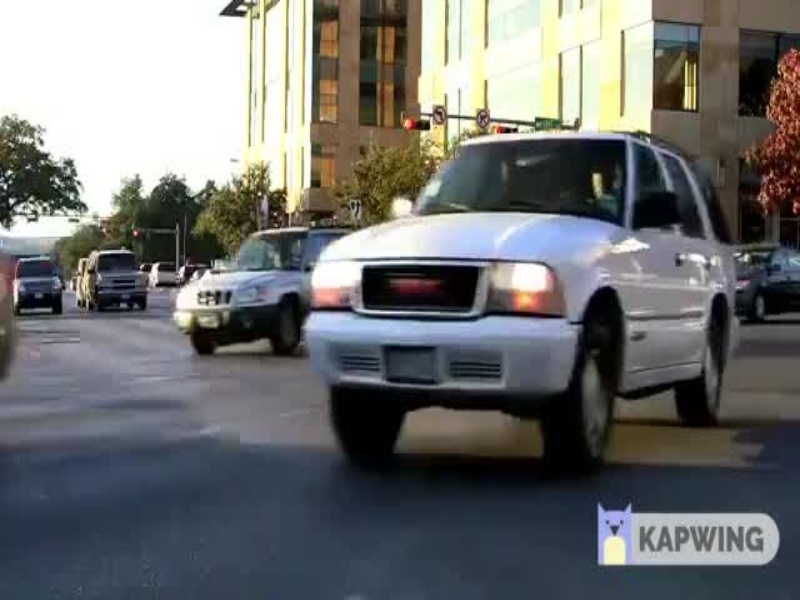suv: (302, 134, 740, 492), (166, 208, 361, 364), (75, 243, 161, 311), (12, 251, 69, 316)
